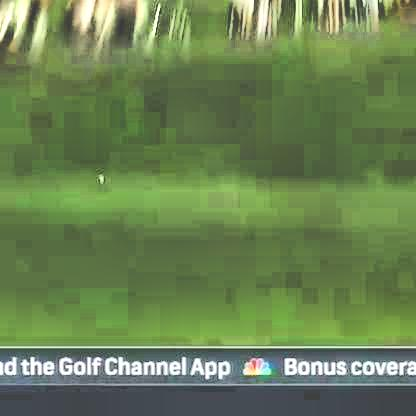golfball: (94, 171, 104, 182)
